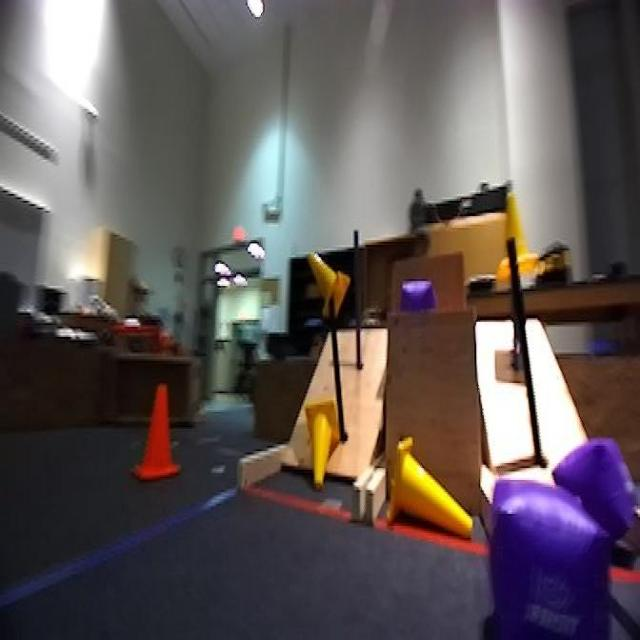frc_cone: (388, 441, 472, 541), (495, 189, 540, 291), (301, 398, 342, 497), (307, 245, 352, 329)
frc_cube: (501, 473, 604, 628), (558, 437, 632, 560), (399, 279, 438, 312)
